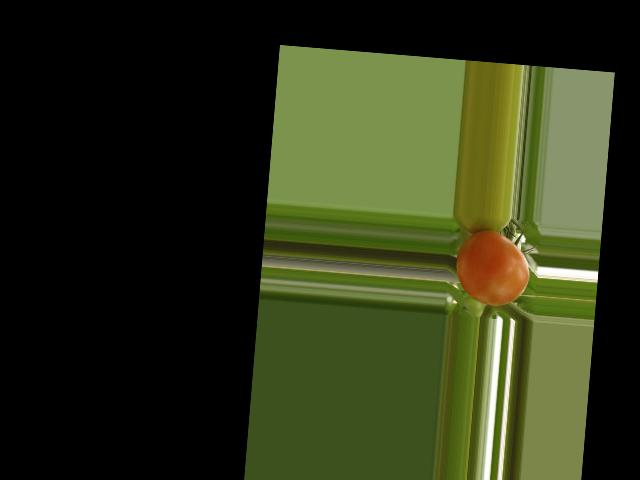tomato: (452, 227, 533, 308)
